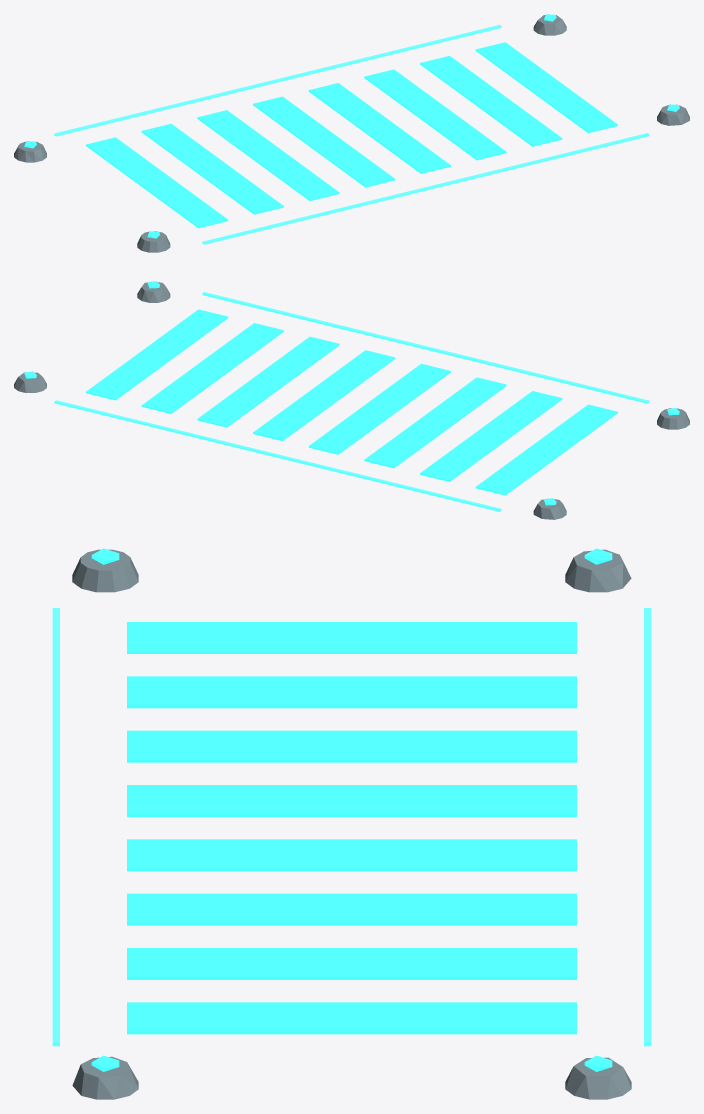
Rendered from City_PedestrianHologram_6m.glb.
The picture shows the model from 3 angles, top to bottom: view 1: azimuth 30°, elevation 25°; view 2: azimuth 150°, elevation 25°; view 3: azimuth 270°, elevation 25°; orthographic projection. The views are drawn at different scales.
Parts seen in each view (by area): view 1: City_PedestrianHologram_6m_WalkGrid, City_PedestrianHologram_6m_Guidance, City_PedestrianHologram_6m_Projectors; view 2: City_PedestrianHologram_6m_WalkGrid, City_PedestrianHologram_6m_Guidance, City_PedestrianHologram_6m_Projectors; view 3: City_PedestrianHologram_6m_WalkGrid, City_PedestrianHologram_6m_Projectors, City_PedestrianHologram_6m_Guidance.
Boxes of the visible parts, x1,y1,x2,y2 form: City_PedestrianHologram_6m_WalkGrid: (86, 42, 617, 228); City_PedestrianHologram_6m_Guidance: (54, 25, 649, 244); City_PedestrianHologram_6m_Projectors: (14, 14, 689, 252); City_PedestrianHologram_6m_WalkGrid: (86, 309, 617, 495); City_PedestrianHologram_6m_Guidance: (54, 292, 649, 511); City_PedestrianHologram_6m_Projectors: (14, 281, 689, 519); City_PedestrianHologram_6m_WalkGrid: (127, 622, 576, 1034); City_PedestrianHologram_6m_Projectors: (72, 548, 631, 1099); City_PedestrianHologram_6m_Guidance: (52, 608, 651, 1046).
Size of the model in its own units: 5.91 by 0.125 by 2.8.
